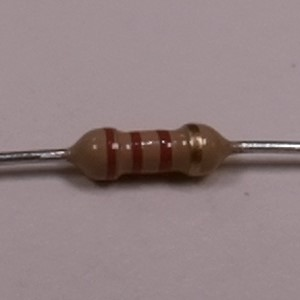gold_band: (183, 121, 204, 180)
red_band: (102, 124, 121, 183), (154, 127, 174, 176), (126, 129, 145, 178)
